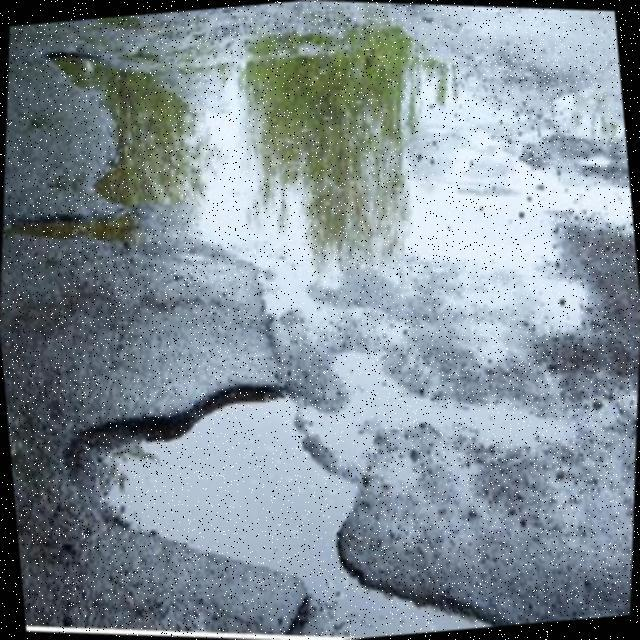Pothole: (66, 386, 490, 639)
